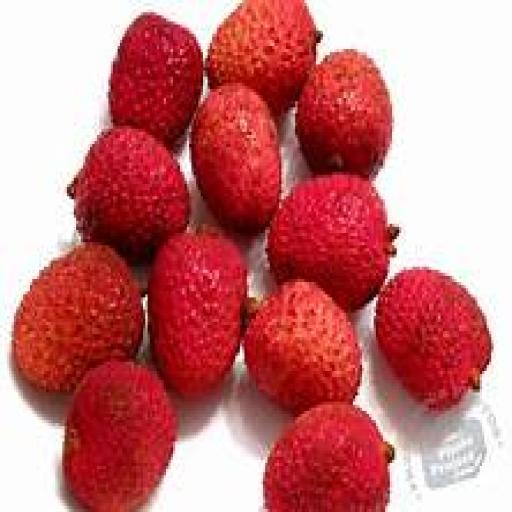lychee: (12, 246, 142, 392), (268, 175, 396, 309), (63, 362, 175, 511), (376, 270, 491, 410), (70, 126, 189, 260), (148, 234, 246, 395), (245, 283, 362, 413), (263, 402, 392, 511), (192, 83, 281, 229), (206, 0, 320, 113), (109, 13, 202, 144), (298, 50, 392, 177)
